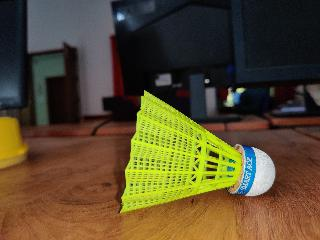shuttlecock: (120, 88, 274, 214)
